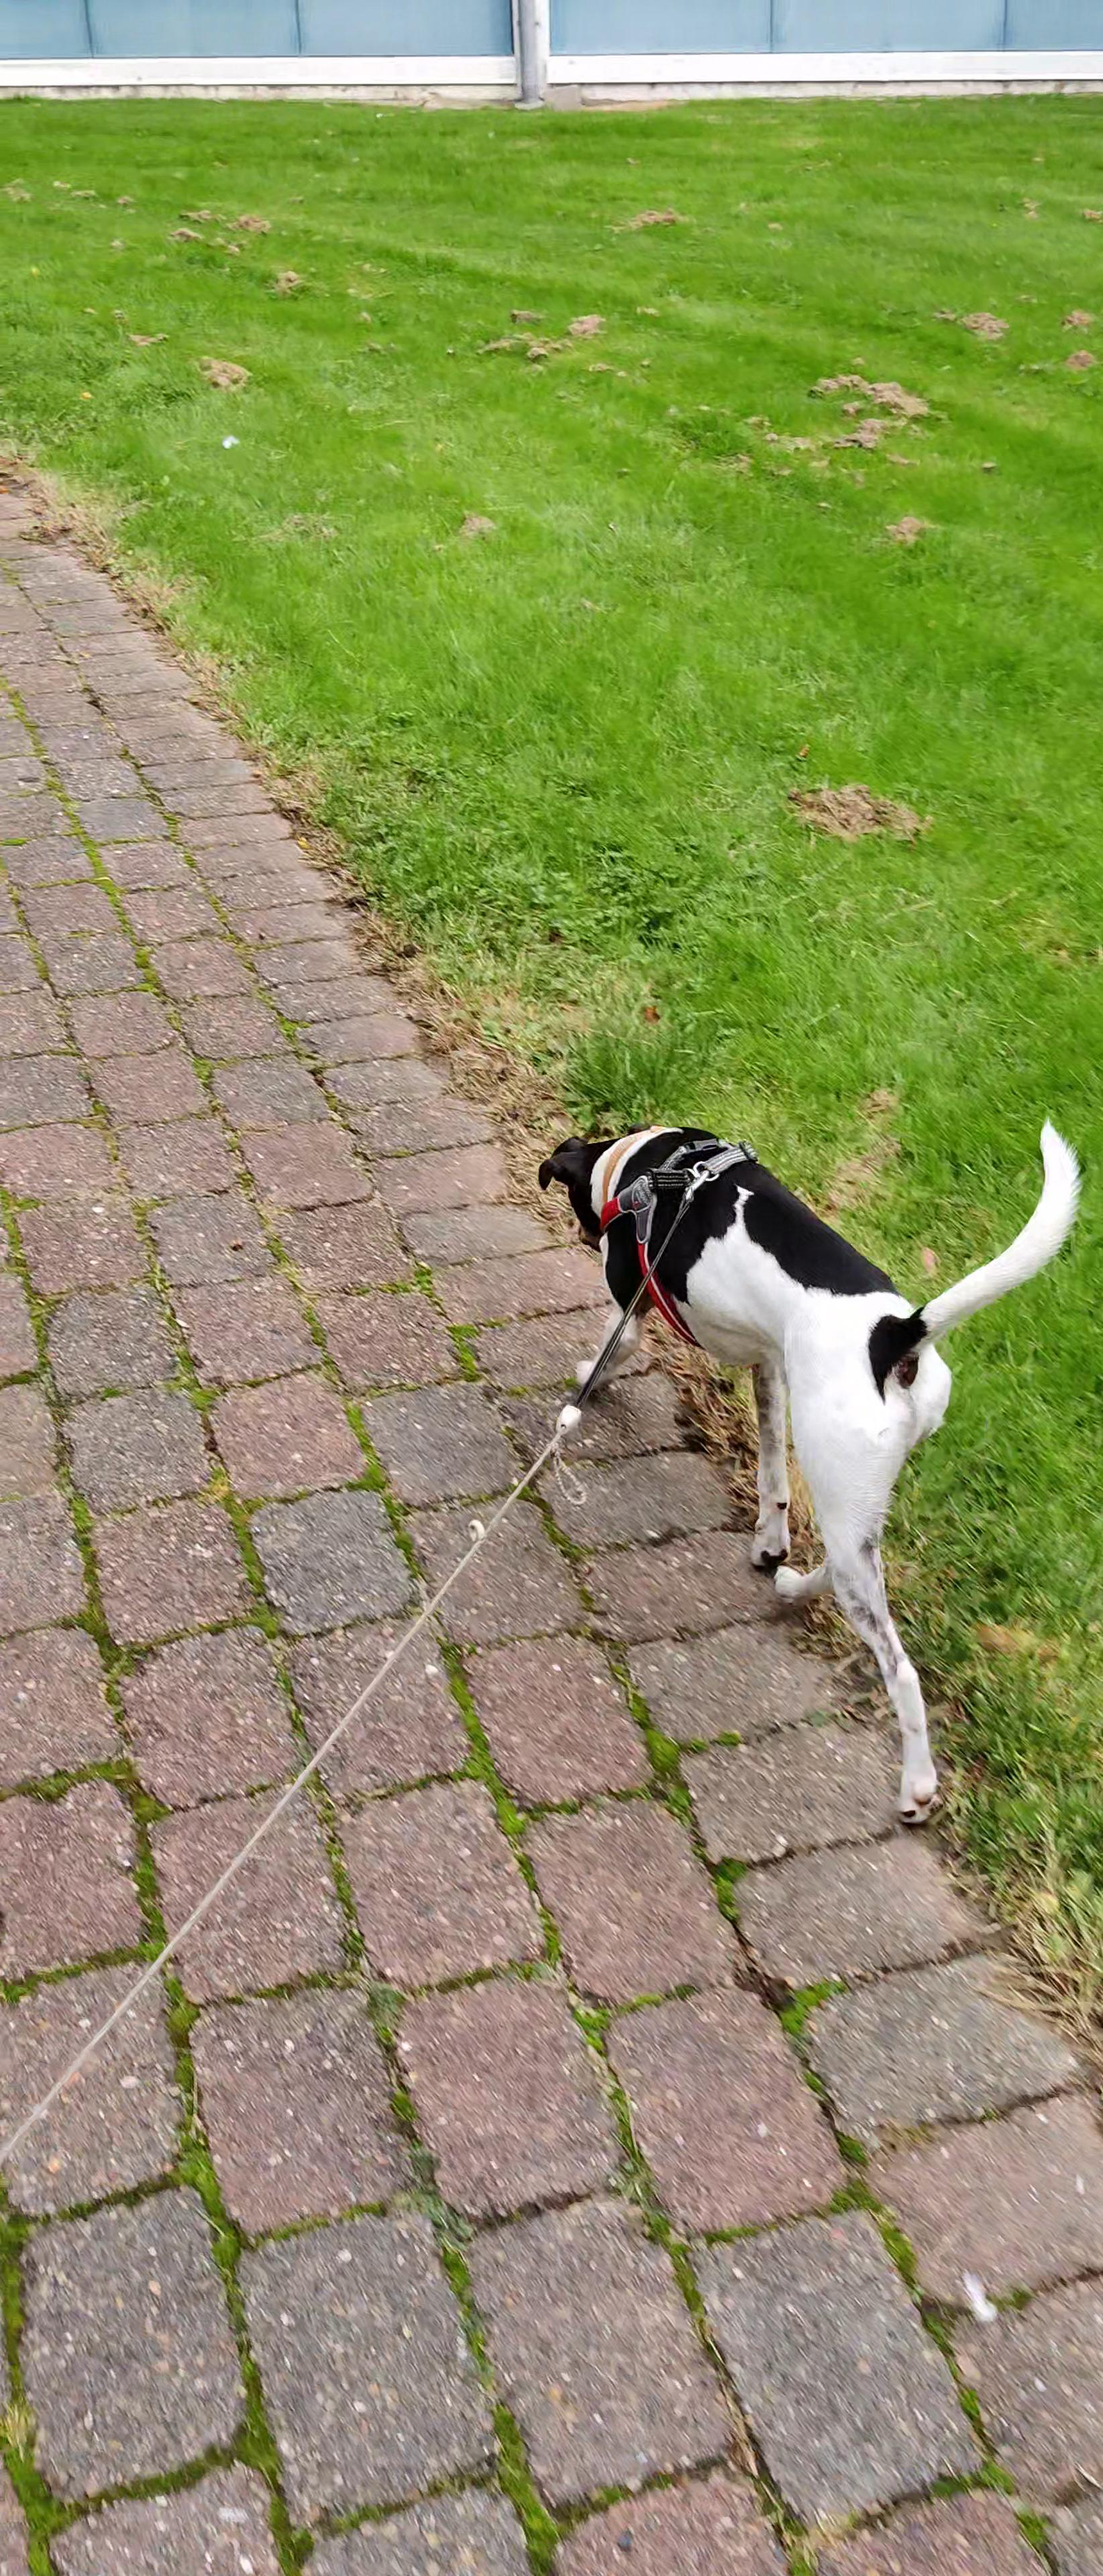Dog: (529, 1050, 1100, 1838)
